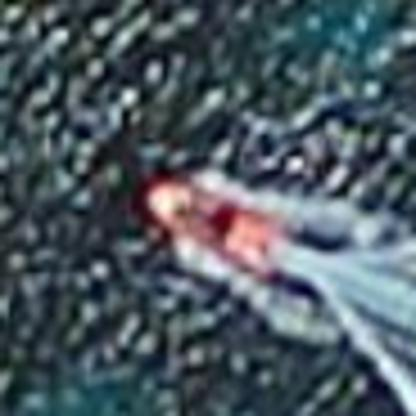ship: (122, 156, 362, 314)
